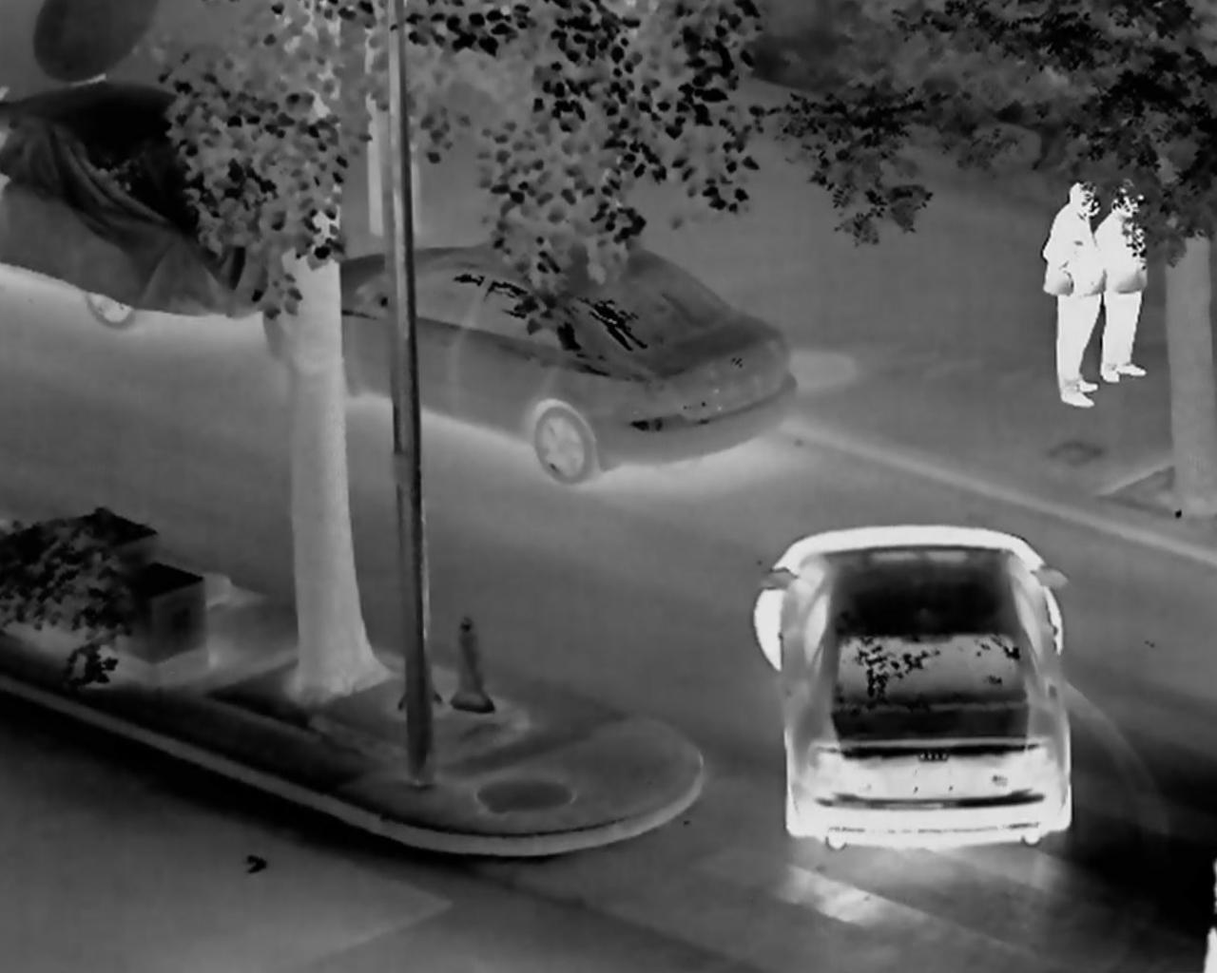person: (1034, 179, 1097, 409), (1087, 185, 1146, 385)
